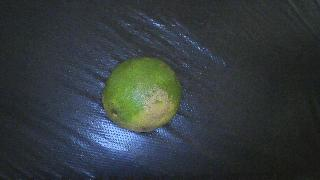DESECHO: (102, 58, 182, 132)
